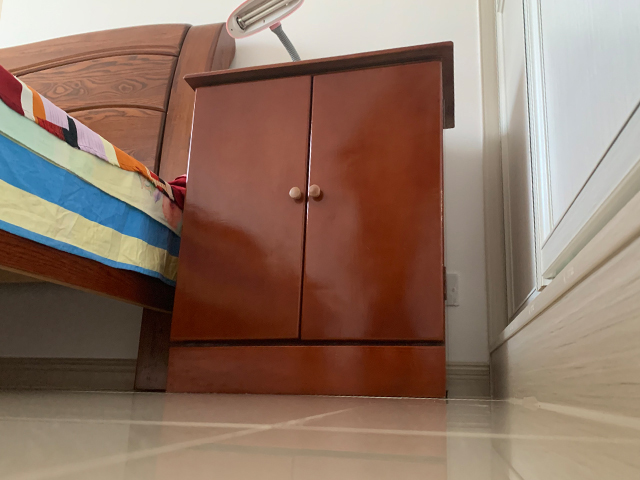bed: (1, 17, 240, 390)
cabinet: (164, 37, 456, 399), (475, 1, 640, 422)
